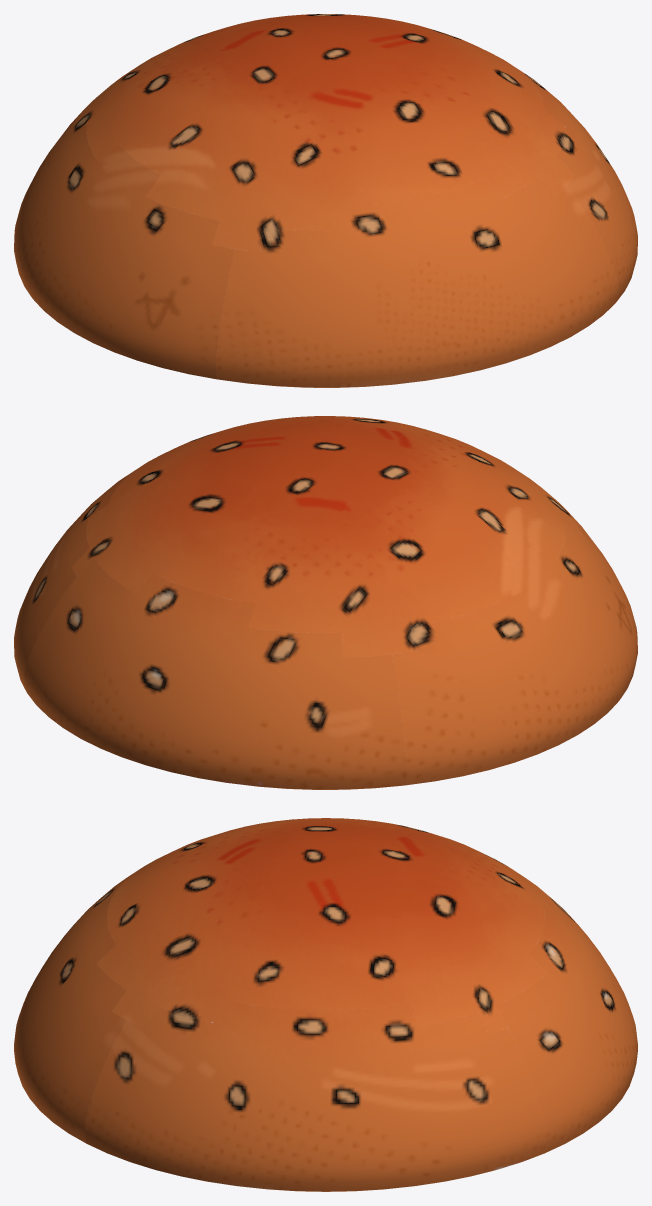
Rendered from Top_Bun.glb.
The picture shows the model from 3 angles, top to bottom: view 1: azimuth 30°, elevation 25°; view 2: azimuth 150°, elevation 25°; view 3: azimuth 270°, elevation 25°; orthographic projection.
Parts seen in each view (by area): view 1: Top_Bun; view 2: Top_Bun; view 3: Top_Bun.
Part boxes in pixels (x1,y1,x2,y2): Top_Bun: [14, 14, 637, 387]; Top_Bun: [14, 416, 637, 789]; Top_Bun: [14, 818, 637, 1191].
Bounding box in the file's own units: 6.08 × 2.32 × 6.08.
Materials: 1 (1 with a texture image).
